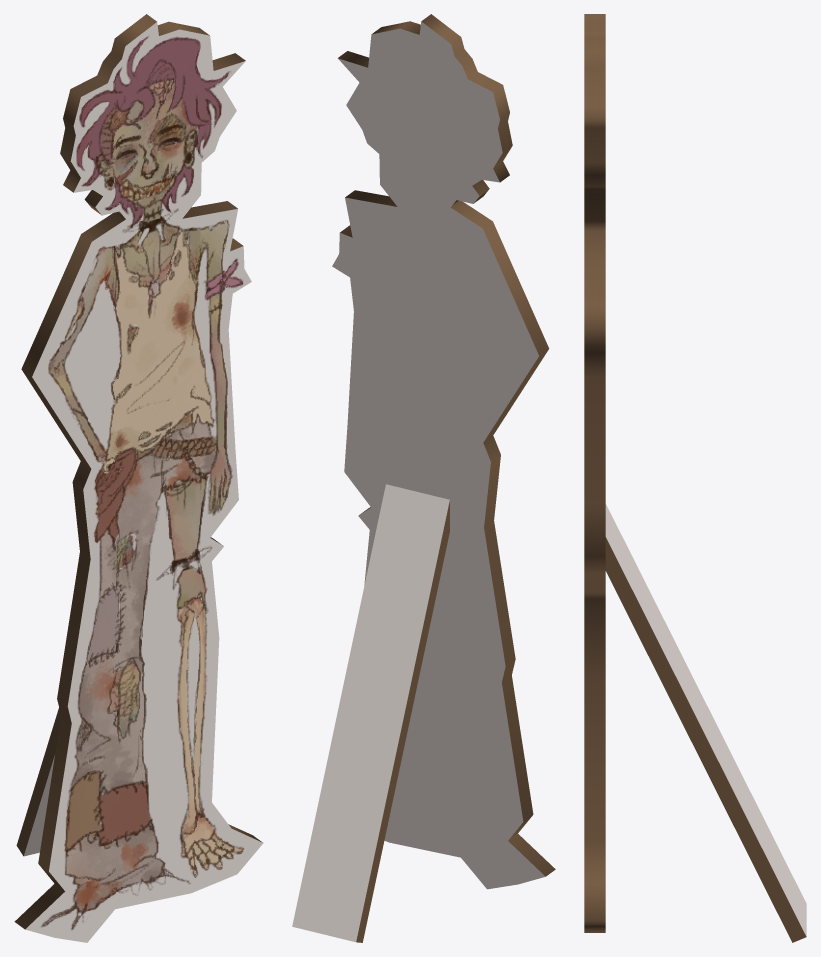
Rendered from Semlan_Happy.fbx.
The picture shows the model from 3 angles, left to right: view 1: azimuth 30°, elevation 25°; view 2: azimuth 150°, elevation 25°; view 3: azimuth 270°, elevation 25°; orthographic projection. The views are drawn at different scales.
Parts seen in each view (by area): view 1: Semlan_Happy; view 2: Semlan_Happy; view 3: Semlan_Happy.
Part boxes in pixels (left/top/right/bottom): Semlan_Happy: left=14, top=14, right=263, bottom=942; Semlan_Happy: left=292, top=14, right=555, bottom=942; Semlan_Happy: left=584, top=14, right=806, bottom=942.
Size of the model in its own units: 48.84 by 177 by 39.1.
1 material, 1 textured.
